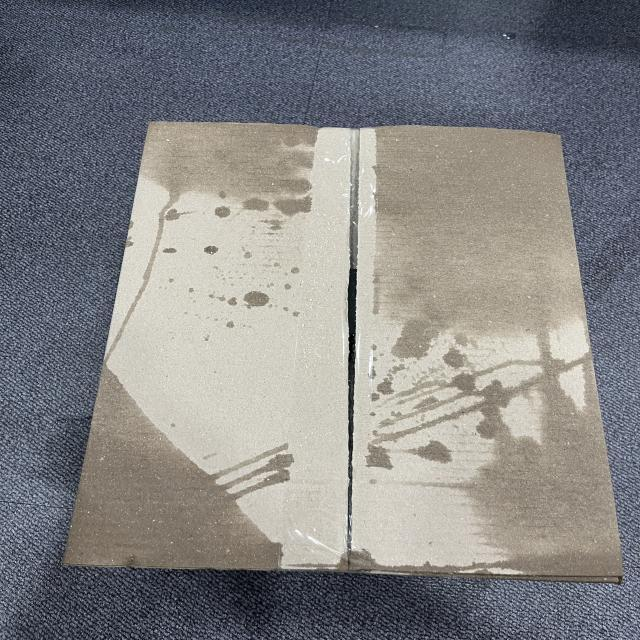wet: (347, 127, 622, 333), (64, 367, 282, 569), (458, 381, 633, 572), (126, 115, 328, 212)
